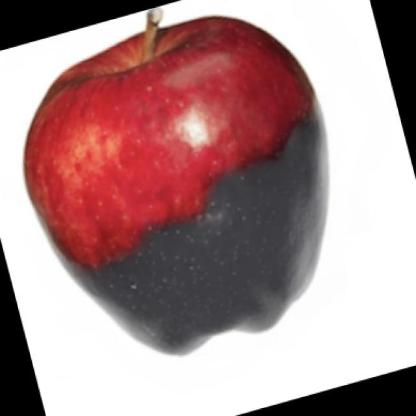defect: (62, 106, 360, 356)
